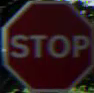Stop: (3, 9, 87, 86)
